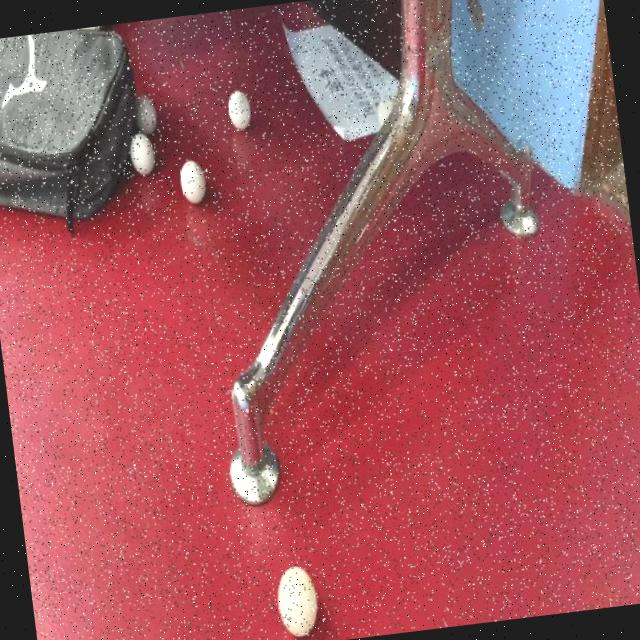ping-pong-ball: (271, 560, 323, 640), (177, 156, 210, 205), (126, 129, 158, 178), (224, 86, 254, 132), (132, 90, 159, 136)
